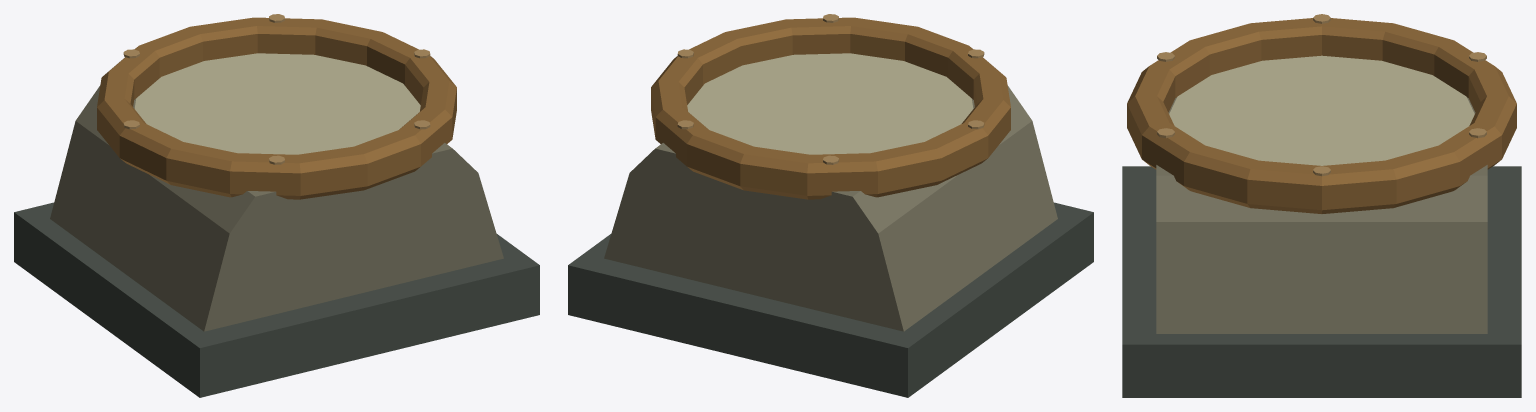
Rendered from VAULT_TREASURE_PLINTH.shadow.glb.
3 renders of one model, left to right at view 1: azimuth 30°, elevation 25°; view 2: azimuth 150°, elevation 25°; view 3: azimuth 270°, elevation 25°, orthographic. The views are drawn at different scales.
Parts seen in each view (by area): view 1: Body_Mesh; view 2: Body_Mesh; view 3: Body_Mesh.
Boxes of the visible parts, x1=… form: Body_Mesh: x1=14, y1=14, x2=539, y2=397; Body_Mesh: x1=568, y1=14, x2=1093, y2=397; Body_Mesh: x1=1122, y1=14, x2=1521, y2=397.
Bounding box in the file's own units: 0.93 × 0.523 × 0.88.
